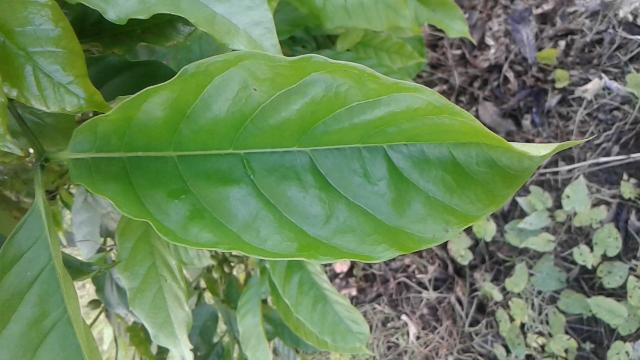healthy: (64, 47, 606, 266)
